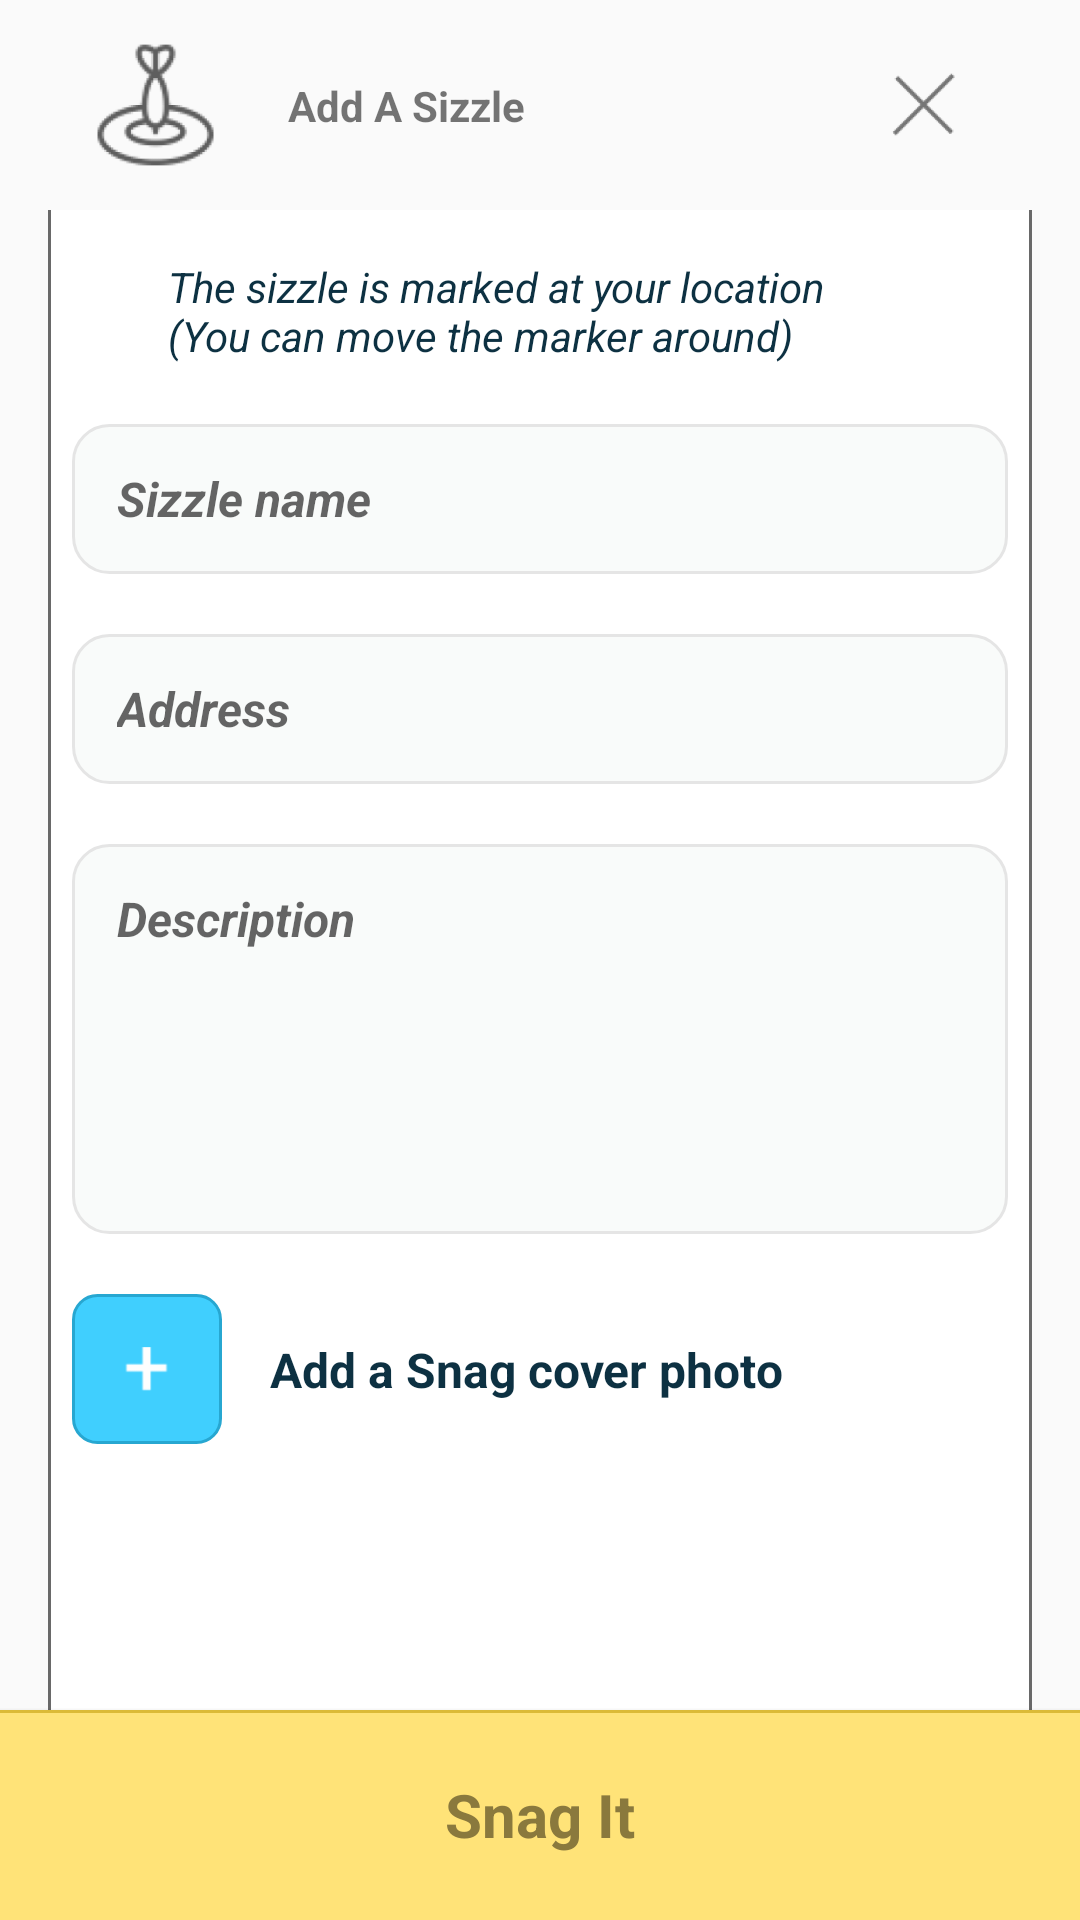

Point at icon controls on the screen. Image size 1080px×1920px, points as [x,y].
cross: [924,104]
dart: [155,105]
plus: [147,1369]
